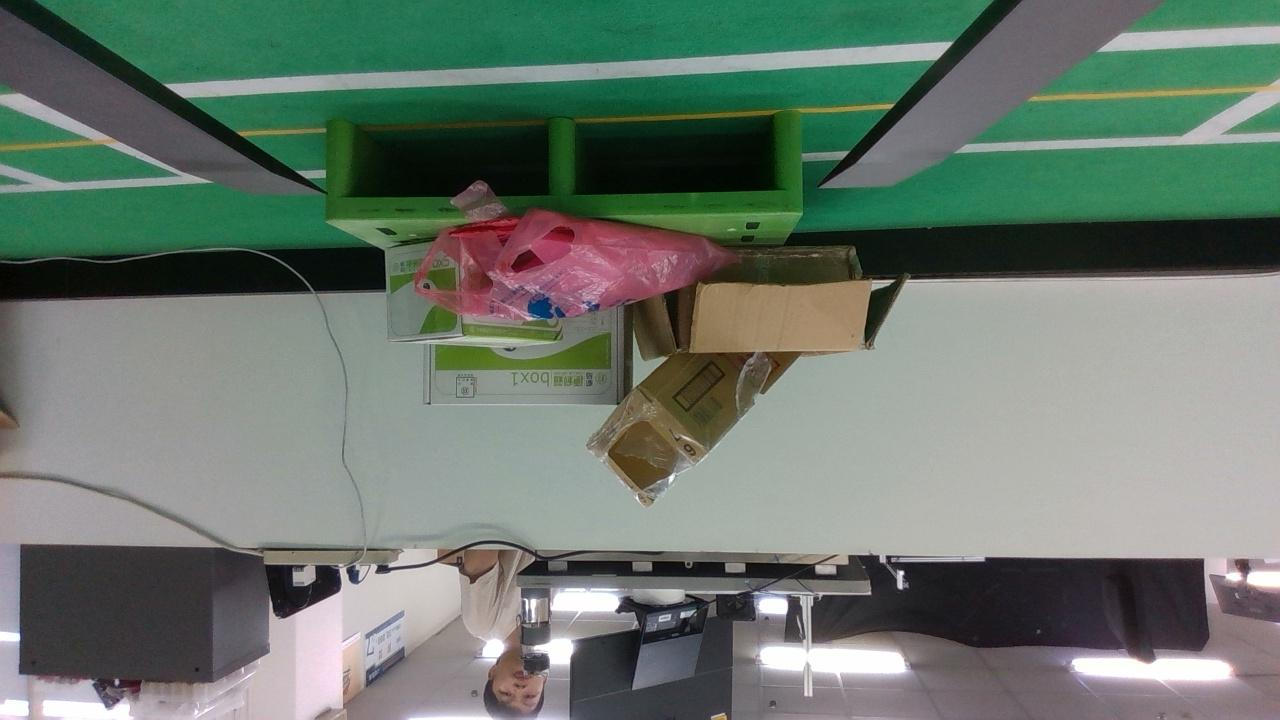Pallet: (326, 112, 804, 222)
